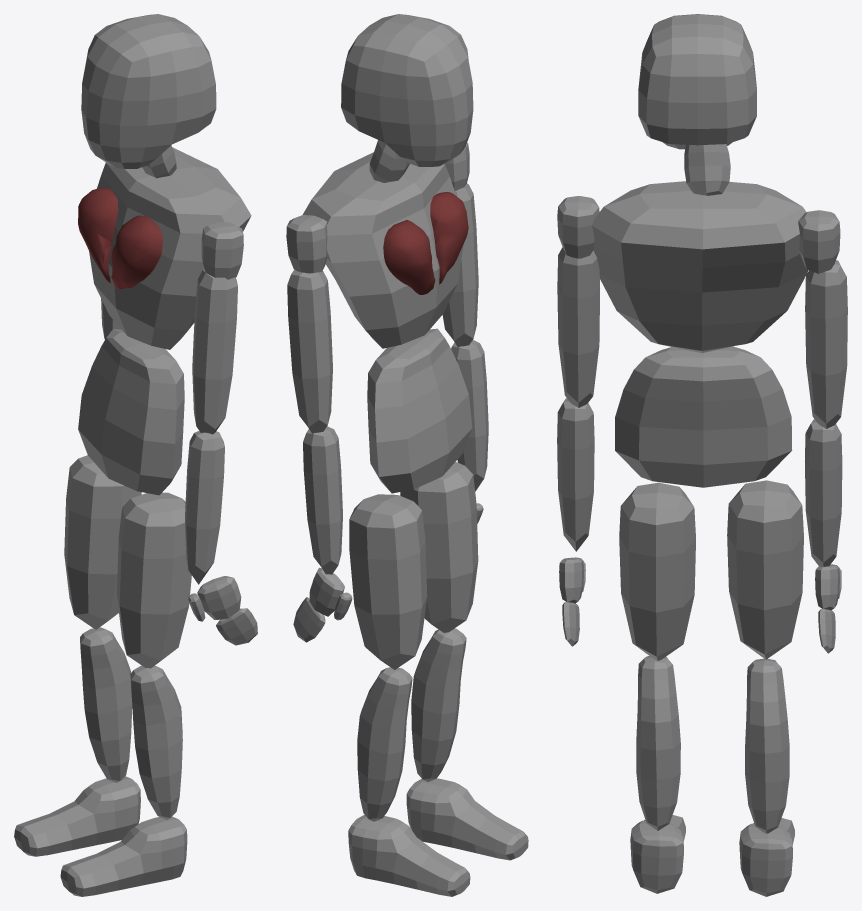
The model's file is PatientMort.fbx.
3 views of the same model, side by side, from view 1: azimuth 30°, elevation 25°; view 2: azimuth 150°, elevation 25°; view 3: azimuth 270°, elevation 25° (orthographic). The views are drawn at different scales.
Visible parts, largest first — view 1: Cube.018; view 2: Cube.018; view 3: Cube.018.
Part boxes in pixels (x1,y1,x2,y2): Cube.018: (14, 14, 257, 896); Cube.018: (286, 14, 528, 896); Cube.018: (557, 14, 847, 896).
Size of the model in its own units: 141 by 639 by 194.
